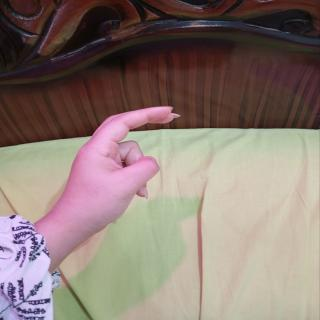ZAY: (48, 100, 190, 248)
